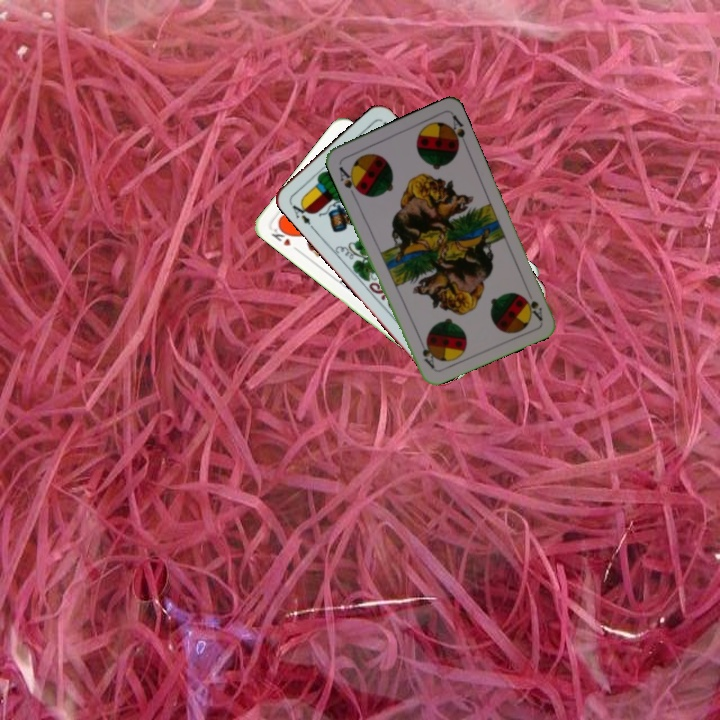EA: (286, 197, 317, 232)
HK: (267, 222, 302, 254)
SA: (335, 162, 363, 199), (518, 291, 545, 323)
